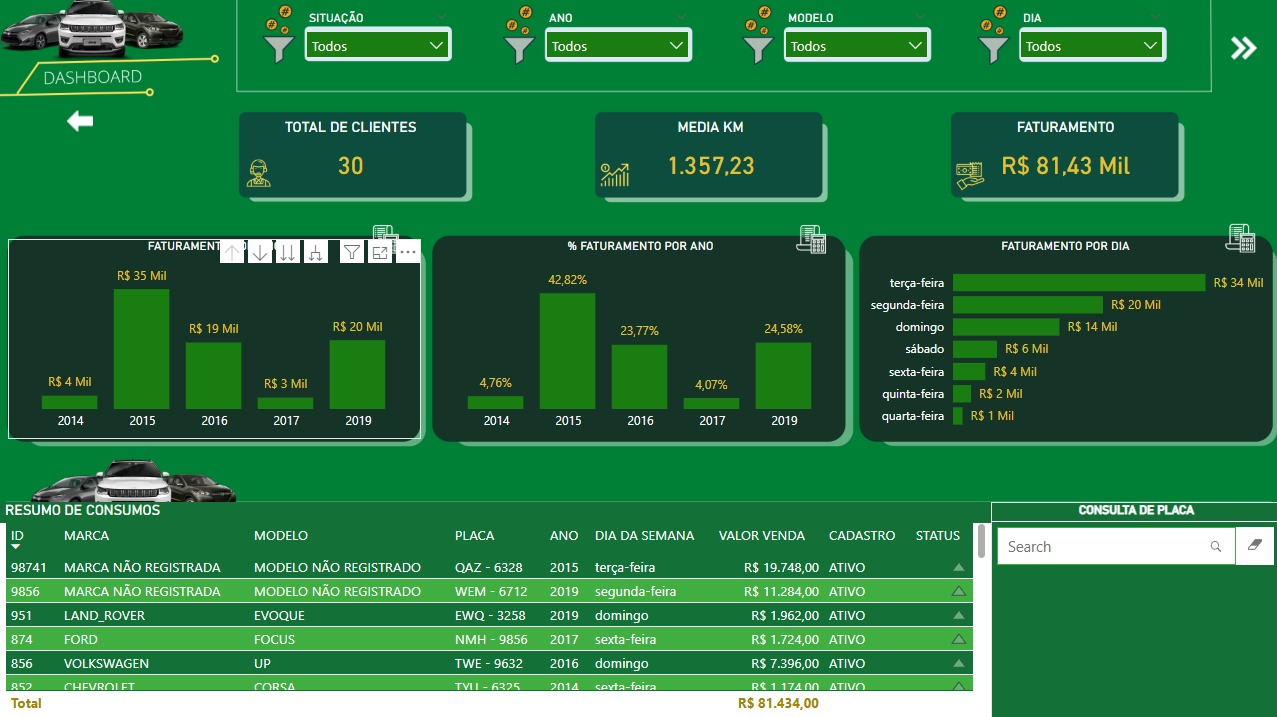

The page's visual inventory and layout, read from the dashboard file:
{"tool":"powerbi","page":{"name":"LOCAÇÃO DE VEÍCULOS","canvas":[1280,720],"ordinal":1},"visuals":[{"type":"columnChart","title":"FATURAMENTO POR ANO","fields":{"Y":["tb_km.FAT MEDIDA"],"Category":["tb_km.DATA.Variation.Hierarquia de datas.Ano","tb_km.DATA.Variation.Hierarquia de datas.Trimestre","tb_km.DATA.Variation.Hierarquia de datas.Mês","tb_km.DATA.Variation.Hierarquia de datas.Dia"]},"box":[8,240.3,413.2,199.5],"z":0},{"type":"columnChart","title":"% FATURAMENTO POR ANO","fields":{"Y":["tb_km.FAT MEDIDA"],"Category":["tb_km.DATA.Variation.Hierarquia de datas.Ano","tb_km.DATA.Variation.Hierarquia de datas.Mês"]},"box":[433.6,240.3,413.2,199.5],"z":1000},{"type":"barChart","title":"FATURAMENTO POR DIA","fields":{"Y":["Divide(tb_km.FAT MEDIDA, ScopedEval(tb_km.FAT MEDIDA, []))"],"Category":["tb_km.Nome do Dia"]},"box":[859.2,240.3,413.2,199.5],"z":2000},{"type":"slicer","fields":{"Values":["tb_km.SITUAÇÃO CADASTRAL"]},"box":[295.8,6.7,163.3,66.7],"z":3000},{"type":"slicer","fields":{"Values":["tb_km.Ano"]},"box":[535.8,6.7,163.3,66.7],"z":4000},{"type":"slicer","fields":{"Values":["tb_km.MODELO"]},"box":[775,6.7,163.3,66.7],"z":5000},{"type":"slicer","fields":{"Values":["tb_km.Nome do Dia"]},"box":[1010,6.7,163.3,66.7],"z":6000},{"type":"card","title":"TOTAL DE CLIENTES","fields":{"Values":["tb_km.QTD CLIENTES"]},"box":[241.7,120,217.5,75],"z":7000},{"type":"card","title":"MEDIA KM","fields":{"Values":["tb_km.MEDIA KM"]},"box":[601.7,120,217.5,75],"z":8000},{"type":"card","title":"FATURAMENTO","fields":{"Values":["tb_km.FAT MEDIDA"]},"box":[956.7,120,217.5,75],"z":9000},{"type":"tableEx","title":"RESUMO DE CONSUMOS","fields":{"Values":["tb_km.ID_CLIENTE","tb_km.MARCA","tb_km.MODELO","tb_km.PLACA","tb_km.Ano","tb_km.Nome do Dia","tb_km.FAT MEDIDA","tb_km.SITUAÇÃO CADASTRAL","tb_km.ICONE"]},"box":[0,502.8,991.3,217.2],"z":10000},{"type":"textFilter25A4896A83E0487089E2B90C9AE57C8A","title":"CONSULTA DE PLACA","fields":{"field":["tb_km.PLACA"]},"box":[991.3,502.8,289.1,217.2],"z":11000},{"type":"image","box":[32.8,103.7,94,36.4],"z":11001},{"type":"actionButton","box":[29.3,102,100.2,39.9],"z":11002},{"type":"image","box":[1223.6,31,39.9,35.5],"z":11003},{"type":"actionButton","box":[1215.7,26.6,64.7,39.9],"z":11004}]}

Visuals, with their boxes in screenshot pixels (x1, y1, x2, y2), scaled from the page's 1280x720 canvas onto the 1277x717 screenshot:
"FATURAMENTO POR ANO" columnChart: (x1=8, y1=239, x2=420, y2=438)
"% FATURAMENTO POR ANO" columnChart: (x1=433, y1=239, x2=845, y2=438)
"FATURAMENTO POR DIA" barChart: (x1=857, y1=239, x2=1269, y2=438)
slicer - tb_km.SITUAÇÃO CADASTRAL: (x1=295, y1=7, x2=458, y2=73)
slicer - tb_km.Ano: (x1=535, y1=7, x2=697, y2=73)
slicer - tb_km.MODELO: (x1=773, y1=7, x2=936, y2=73)
slicer - tb_km.Nome do Dia: (x1=1008, y1=7, x2=1171, y2=73)
"TOTAL DE CLIENTES" card: (x1=241, y1=120, x2=458, y2=194)
"MEDIA KM" card: (x1=600, y1=120, x2=817, y2=194)
"FATURAMENTO" card: (x1=954, y1=120, x2=1171, y2=194)
"RESUMO DE CONSUMOS" tableEx: (x1=0, y1=501, x2=989, y2=716)
"CONSULTA DE PLACA" textFilter25A4896A83E0487089E2B90C9AE57C8A: (x1=989, y1=501, x2=1276, y2=716)
image: (x1=33, y1=103, x2=127, y2=140)
actionButton: (x1=29, y1=102, x2=129, y2=141)
image: (x1=1221, y1=31, x2=1261, y2=66)
actionButton: (x1=1213, y1=26, x2=1276, y2=66)
